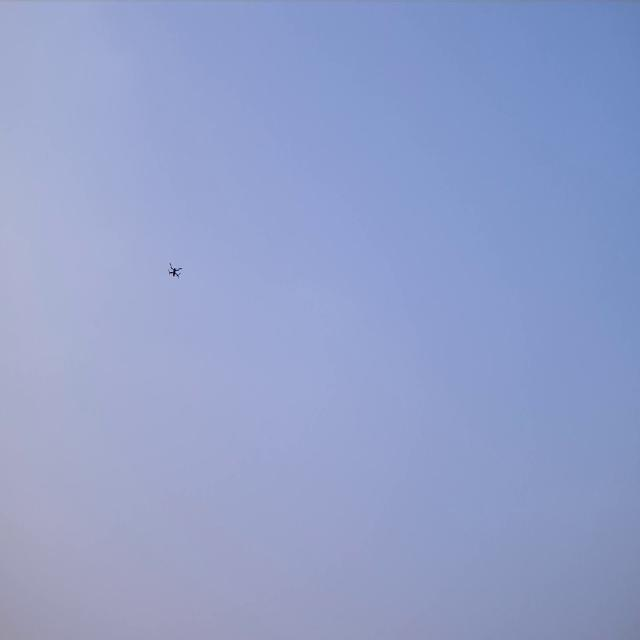UAV: (166, 260, 182, 280)
